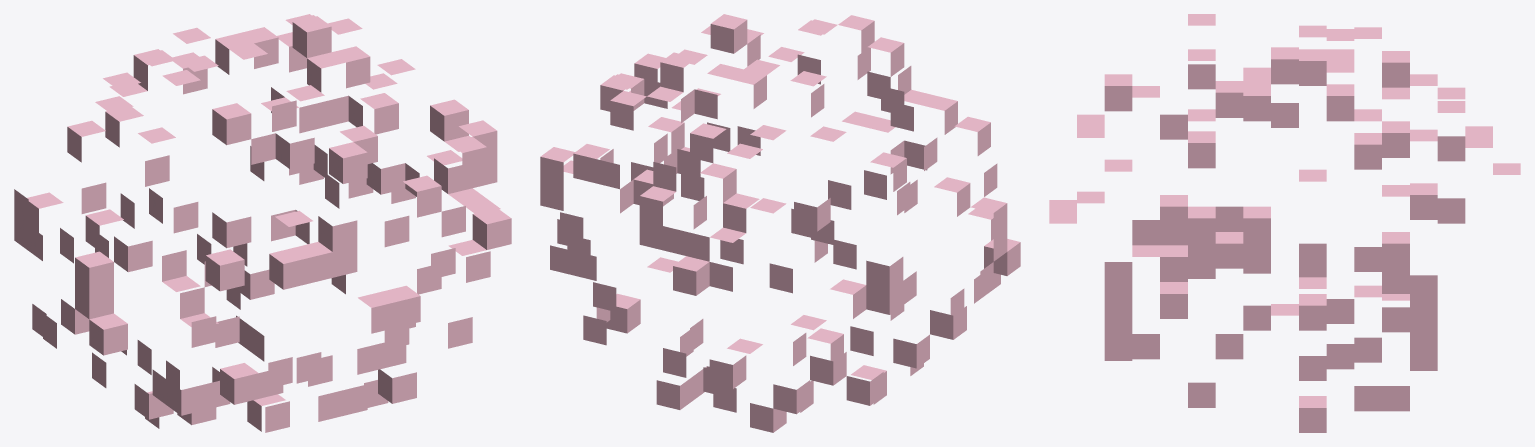
Rendered from tree-cherry-1p25-pink1-ffc9dc.gltf.
3 renders of one model, left to right at view 1: azimuth 30°, elevation 25°; view 2: azimuth 150°, elevation 25°; view 3: azimuth 270°, elevation 25°, orthographic. The views are drawn at different scales.
Parts seen in each view (by area): view 1: tree-cherry-1p25-pink1-ffc9dc; view 2: tree-cherry-1p25-pink1-ffc9dc; view 3: tree-cherry-1p25-pink1-ffc9dc.
Part boxes in pixels (bbox=[...]): tree-cherry-1p25-pink1-ffc9dc: bbox=[14, 14, 511, 432]; tree-cherry-1p25-pink1-ffc9dc: bbox=[540, 14, 1020, 432]; tree-cherry-1p25-pink1-ffc9dc: bbox=[1049, 14, 1520, 432].
Size of the model in its own units: 17 by 14 by 17.
